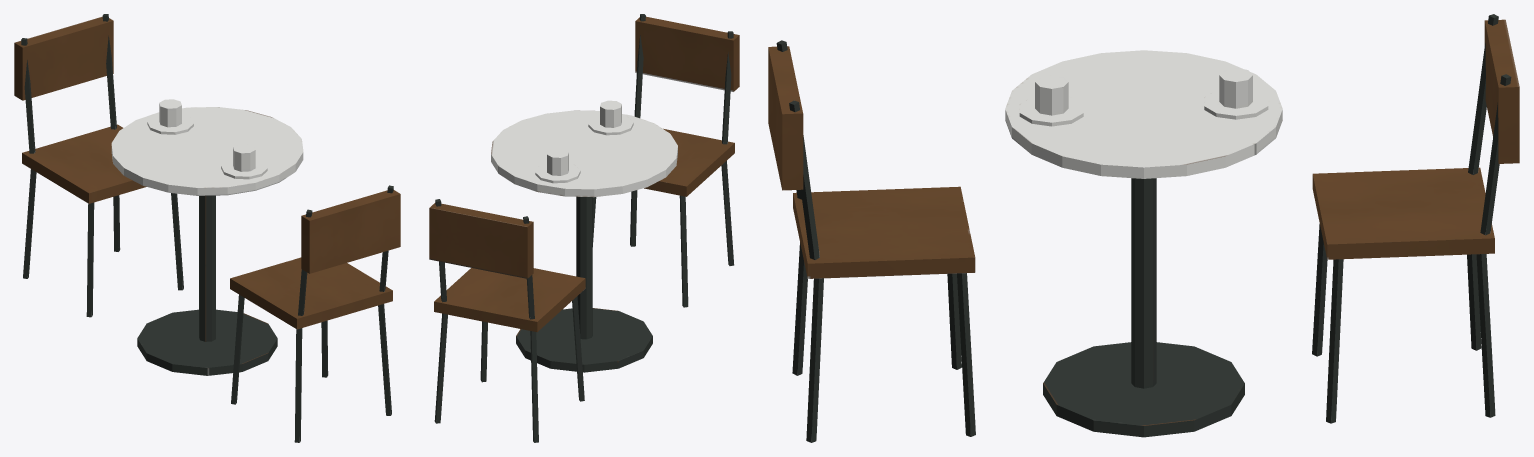
The model's file is stolek_kavarna_d3c6f580.glb.
3 renders of one model, left to right at view 1: azimuth 30°, elevation 25°; view 2: azimuth 150°, elevation 25°; view 3: azimuth 270°, elevation 25°, orthographic. The views are drawn at different scales.
Visible parts, largest first — view 1: dum; view 2: dum; view 3: dum.
Boxes of the visible parts, x1,y1,x2,y2 form: dum: (14,14,400,442); dum: (429,14,739,442); dum: (768,14,1519,442).
Bounding box in the file's own units: 0.6584 × 0.8798 × 1.78.
1 material, 1 textured.
